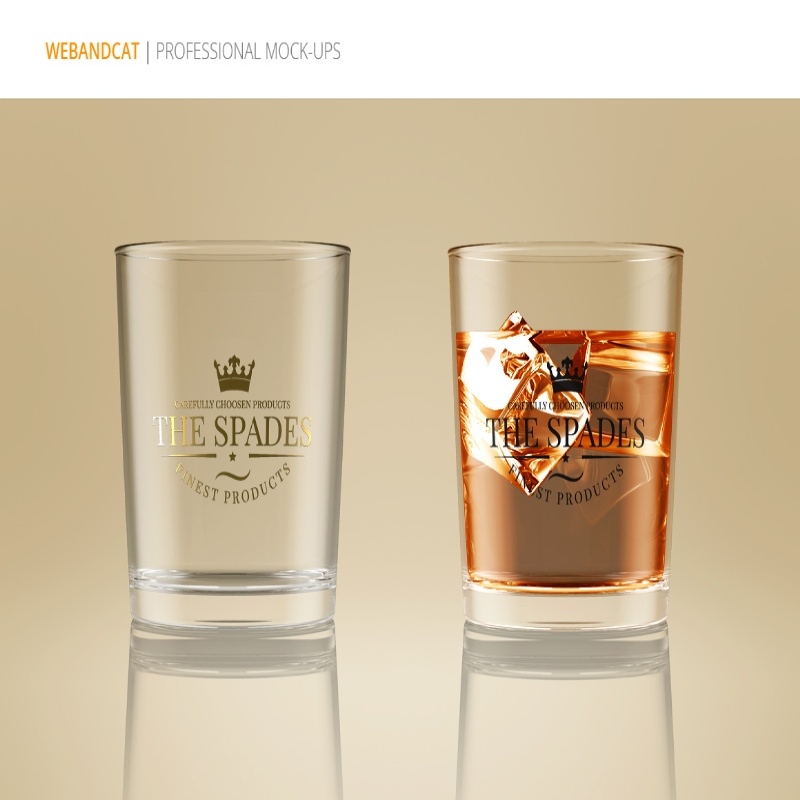whiskey: (443, 242, 681, 618)
